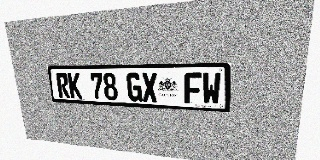7: (89, 73, 104, 100)
8: (102, 73, 118, 100)
F: (184, 73, 202, 104)
G: (126, 73, 142, 101)
K: (67, 73, 82, 99)
R: (56, 73, 70, 98)
W: (202, 72, 221, 105)
X: (141, 73, 158, 102)
